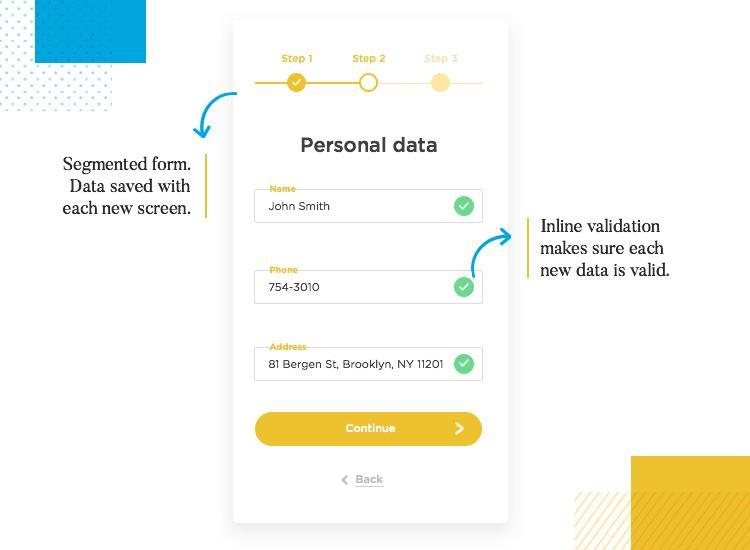button: (255, 412, 484, 448)
input: (254, 189, 484, 224), (255, 348, 485, 383), (255, 271, 485, 305)
